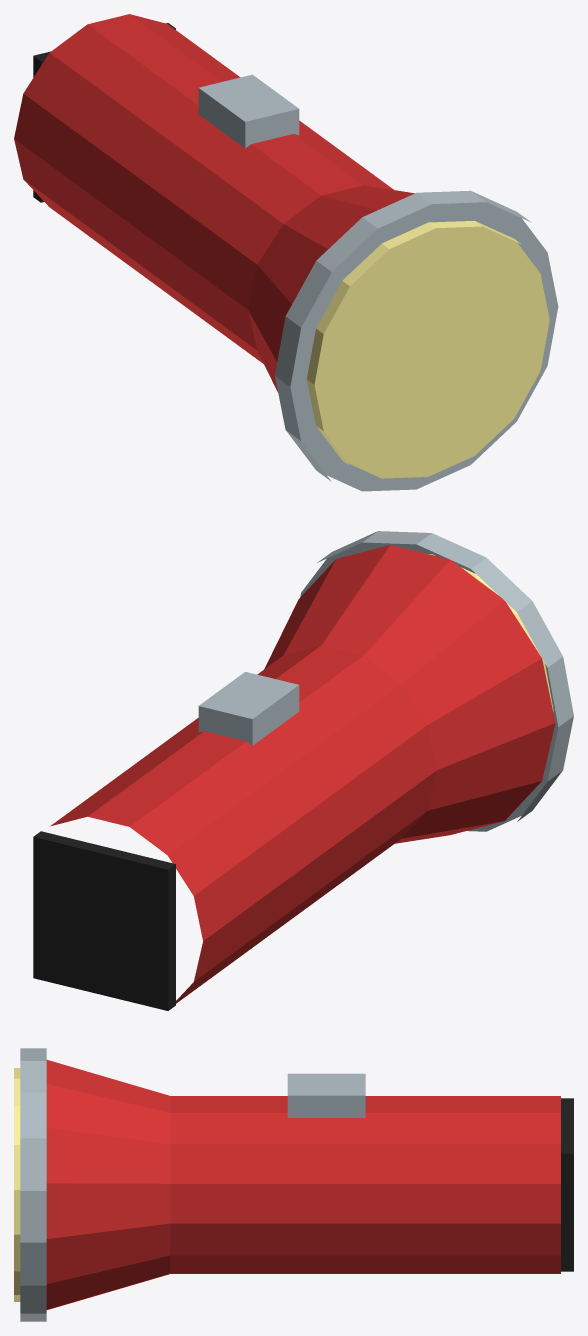
The model's file is ficklampa.glb.
3 renders of one model, top to bottom at view 1: azimuth 30°, elevation 25°; view 2: azimuth 150°, elevation 25°; view 3: azimuth 270°, elevation 25°, orthographic. The views are drawn at different scales.
Visible parts, largest first — view 1: ficklampa; view 2: ficklampa; view 3: ficklampa.
Boxes of the visible parts, box(x1,y1,x2,y2) form: ficklampa: box(14, 14, 558, 491); ficklampa: box(33, 531, 573, 1010); ficklampa: box(14, 1048, 573, 1321).
Size of the model in its own units: 0.21 by 0.21 by 0.43.
